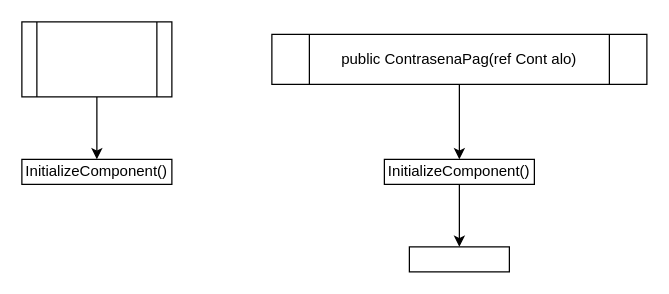
Some shapes in this 669 by 294 pixel diagram are drawn without their labels. The centre of each missing label's shape, as x and y in pixels:
"alo = oal" belongs at (x=458, y=259).
"public ContrasenaPag()" belongs at (x=96, y=59).
